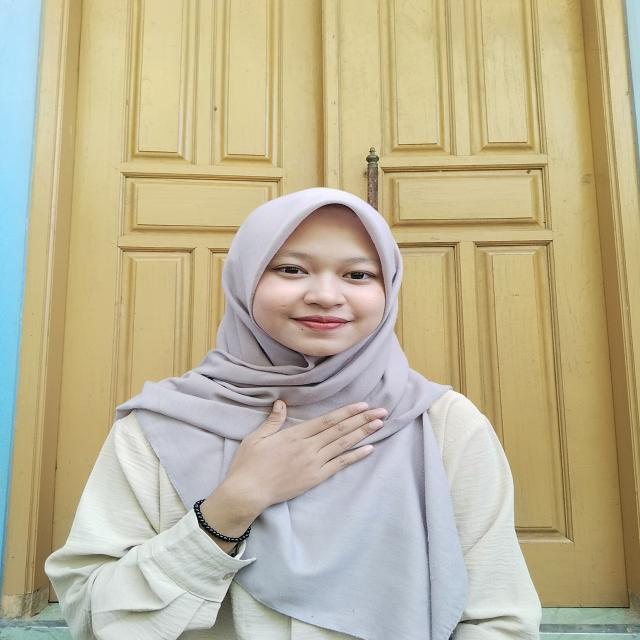tolong: (185, 397, 391, 547)
